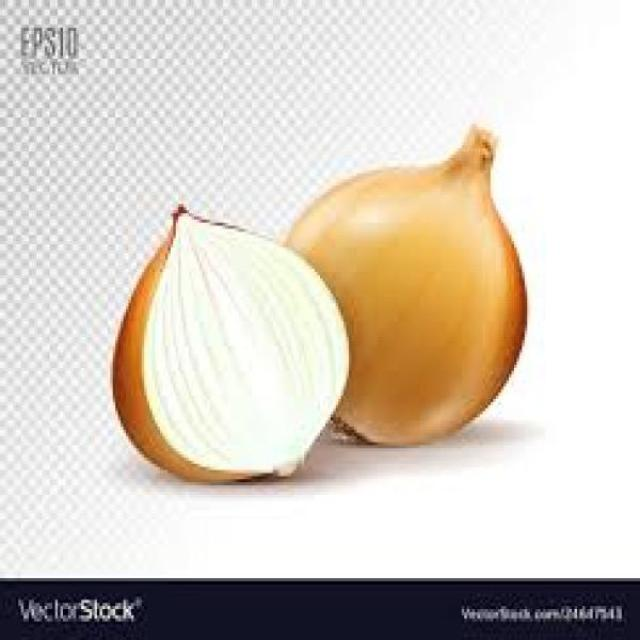Onion: (281, 128, 528, 448), (111, 207, 351, 485)
